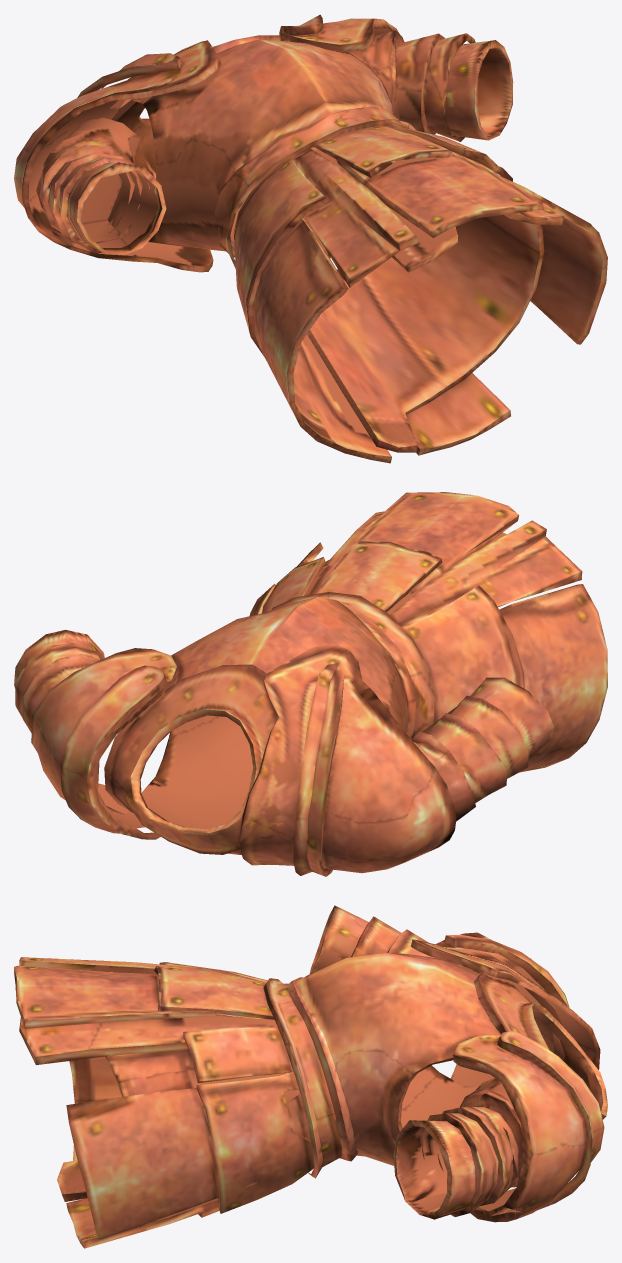
File: item_mm9_10113.glb
3 views of the same model, one above another, from view 1: azimuth 30°, elevation 25°; view 2: azimuth 150°, elevation 25°; view 3: azimuth 270°, elevation 25° (orthographic). The views are drawn at different scales.
Parts seen in each view (by area): view 1: d10113; view 2: d10113; view 3: d10113.
Boxes of the visible parts, x1,y1,x2,y2 form: d10113: (14, 14, 607, 463); d10113: (14, 492, 607, 876); d10113: (14, 905, 607, 1248).
Size of the model in its own units: 0.9878 by 0.5328 by 1.05.
Materials: 1 (1 with a texture image).
